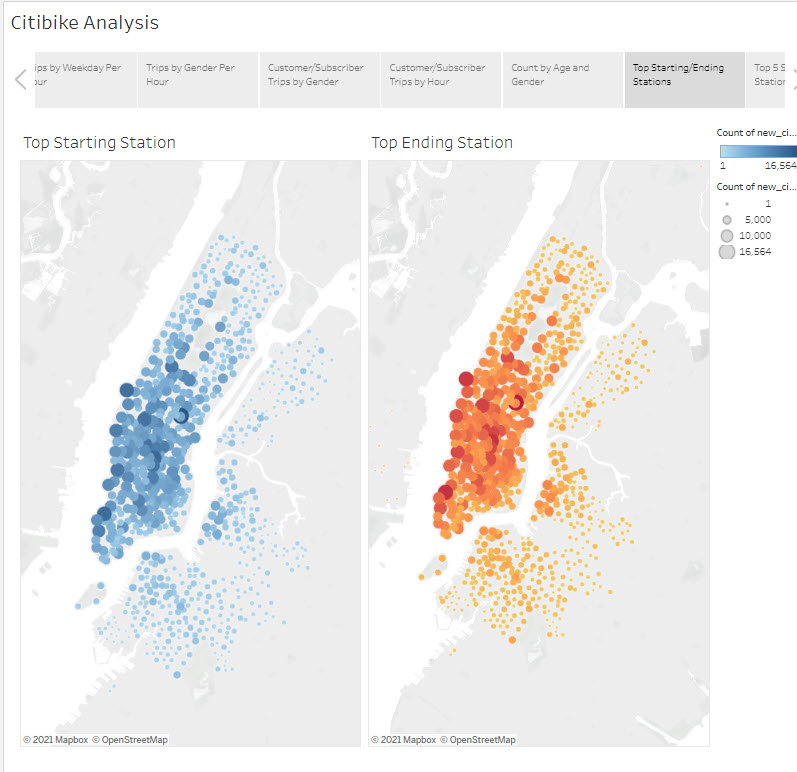

The page's visual inventory and layout, read from the dashboard file:
{"tool":"tableau","page":{"name":"Map of Top Starting and Ending","canvas":[1000,800],"ordinal":3},"visuals":[{"type":"worksheet","title":"Top Starting Station","mark":"Automatic","rows":["start station latitude"],"cols":["start station longitude"],"box":[8,8,435.5,784]},{"type":"worksheet","title":"Top Ending Station","mark":"Automatic","rows":["end station latitude"],"cols":["end station longitude"],"box":[443.5,8,435.5,784]},{"type":"legend","title":"Top Starting Station","param":"[federated.0oyse0e0kn00c418yci4800ggdbp].[__tableau_internal_object_id__].[cnt:n","box":[879,8,113,65]},{"type":"legend","title":"Top Starting Station","param":"[federated.0oyse0e0kn00c418yci4800ggdbp].[__tableau_internal_object_id__].[cnt:n","box":[879,73,113,106]}]}

Visuals, with their boxes on the page's 1000x800 design canvas (x1, y1, x2, y2). These are canvas units, not pixel positions in the 797x772 screenshot, which may show the page scaled, cropped or inside an application window:
"Top Starting Station" worksheet: pyautogui.locateOnScreen(8, 8, 444, 792)
"Top Ending Station" worksheet: pyautogui.locateOnScreen(444, 8, 879, 792)
"Top Starting Station" legend: pyautogui.locateOnScreen(879, 8, 992, 73)
"Top Starting Station" legend: pyautogui.locateOnScreen(879, 73, 992, 179)
